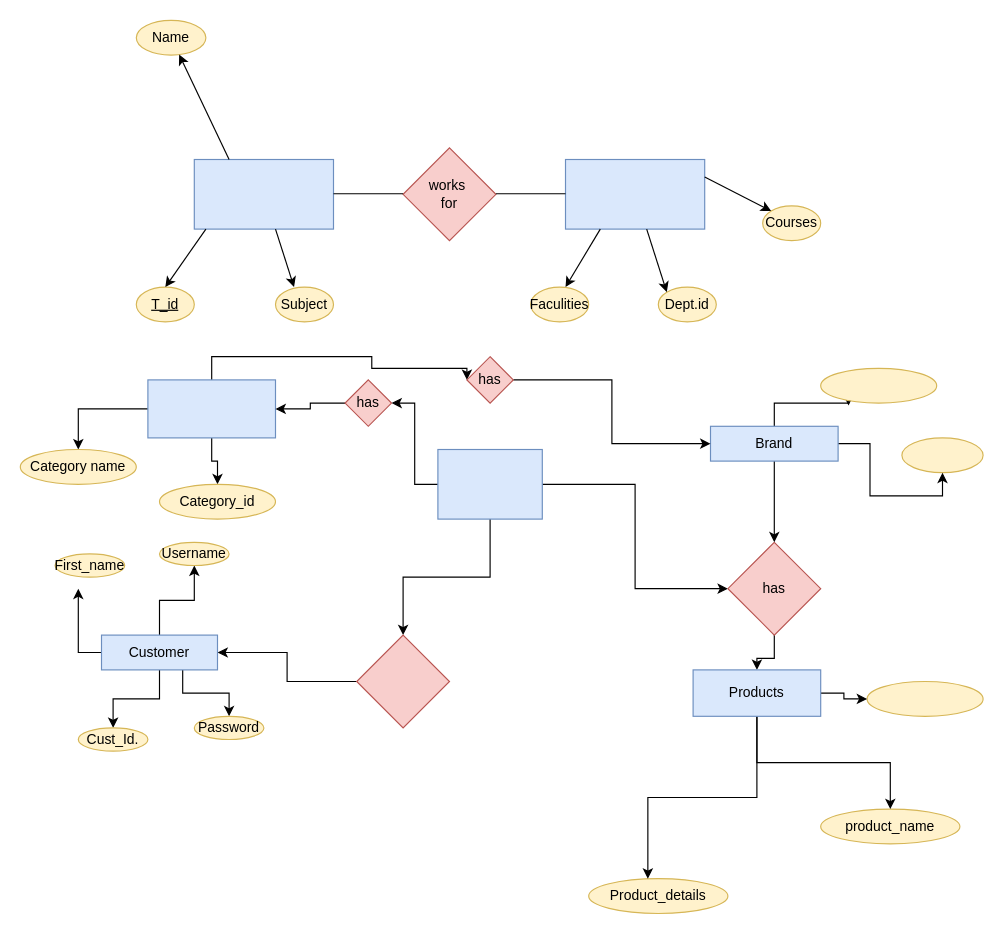
Image size: 1003x934. Some labels were removed from this diagram. The box of each missing label's shape, as (x1, y1, x2, y2) in pixels:
belongs to: (356, 634, 449, 728)
brand_id: (901, 437, 983, 473)
brand_name: (820, 367, 937, 403)
Category: (147, 379, 276, 438)
Department: (564, 158, 705, 229)
Online Shopping system: (437, 448, 542, 519)
Product_id: (866, 680, 983, 716)
Teacher: (193, 158, 334, 229)
